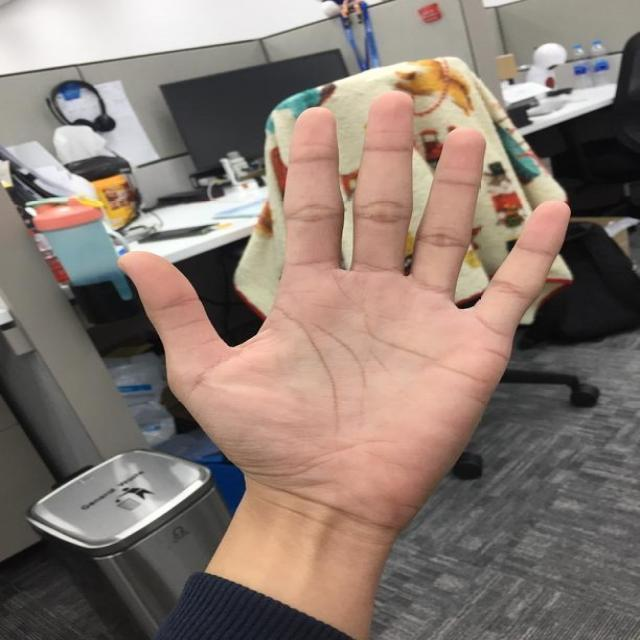no-gloves: (119, 88, 572, 530)
